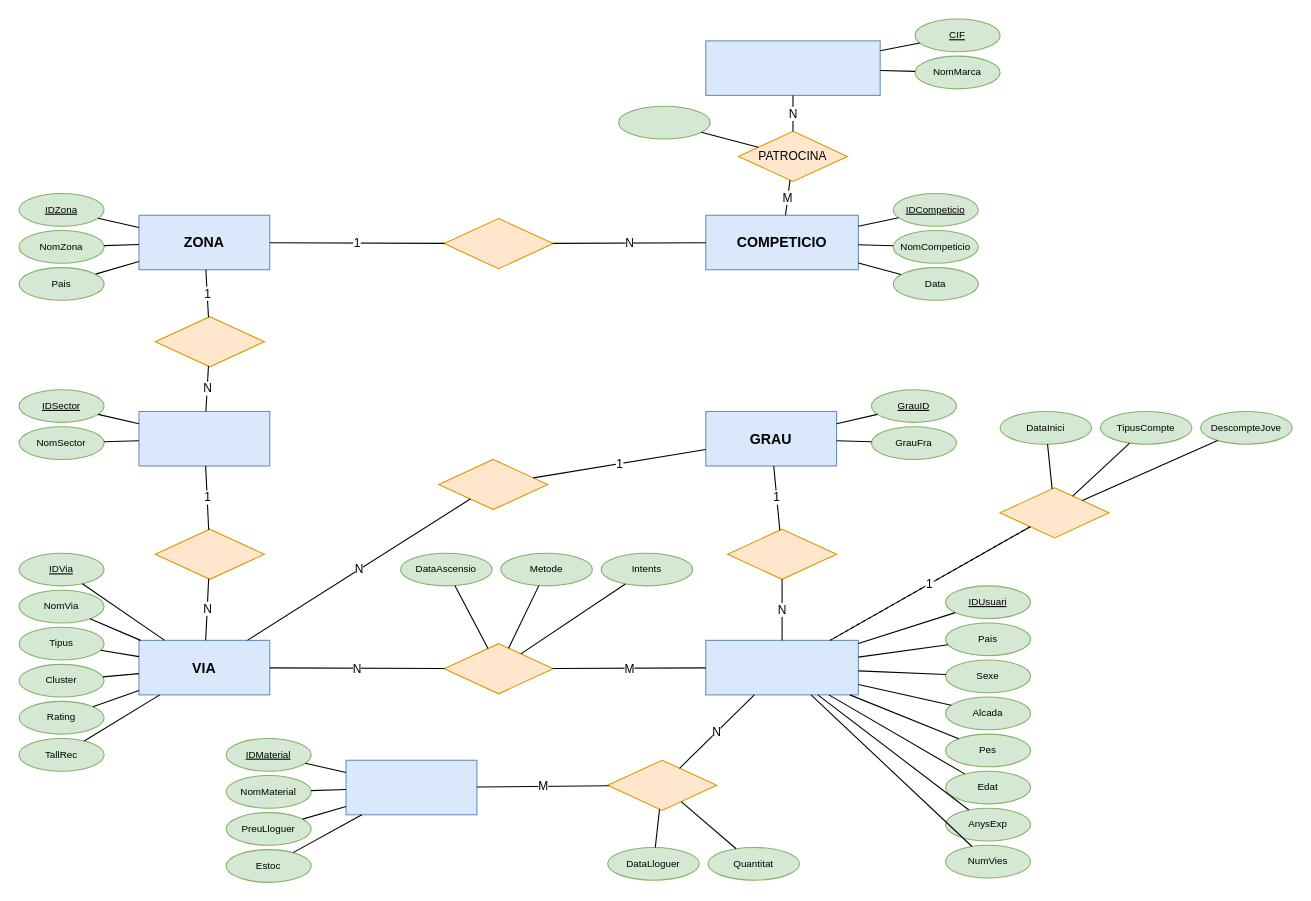
Some shapes in this 1311 by 901 pixel diagram are drawn without their labels. The shapes that lost their labels are listed below. From the top down, each one's centre as x and y in pixels, then its label:
At (792,67): "PATROCINADOR".
At (663,122): "AportacioEuros".
At (498,243): "ALBERGA".
At (209,341): "CONTE".
At (204,438): "SECTOR".
At (493,484): "TE GRAU".
At (1054,512): "SUBSCRIU".
At (209,553): "INCLOU".
At (781,553): "TE MAX".
At (498,668): "ENCADENA".
At (781,667): "ESCALADOR".
At (411,787): "MATERIAL".
At (662,784): "LLOGA".
